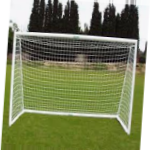goals: (9, 30, 138, 135)
